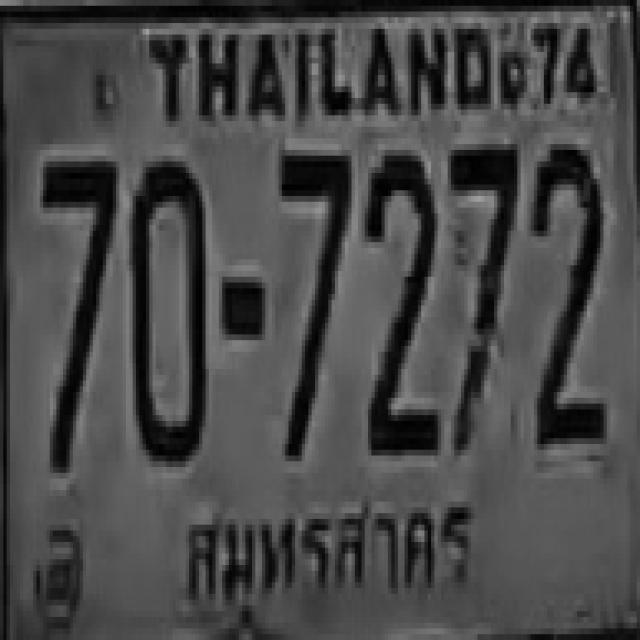0: (129, 156, 206, 461)
2: (530, 141, 604, 441), (365, 147, 434, 447)
7: (40, 156, 116, 467), (275, 150, 348, 450), (448, 138, 517, 450), (448, 138, 517, 380)
SamutSakhon: (172, 493, 482, 618)
